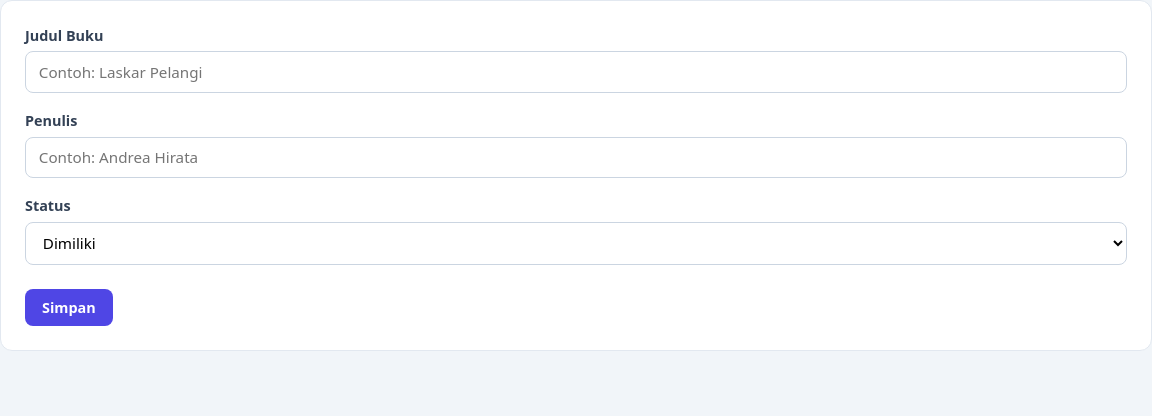
it: BookForm › menghapus pesan error ketika pengguna mulai mengetik
This screenshot has width=1152, height=416.
Click the button "Simpan": (69, 308) [25,289,113,326]
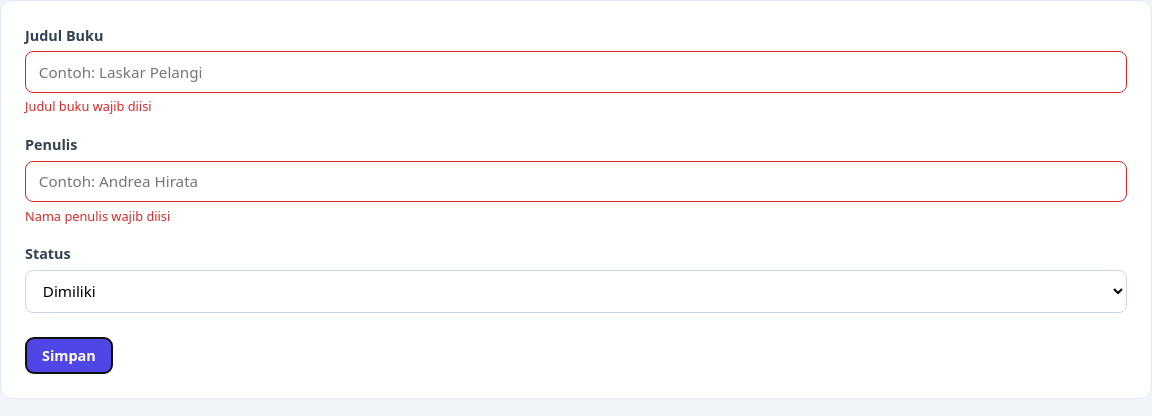
Expected: the text "Judul buku wajib diisi" is shown, [25,97,152,115]
In the field labelled "Judul Buku": (576, 72) [25,51,1127,93], type "A"
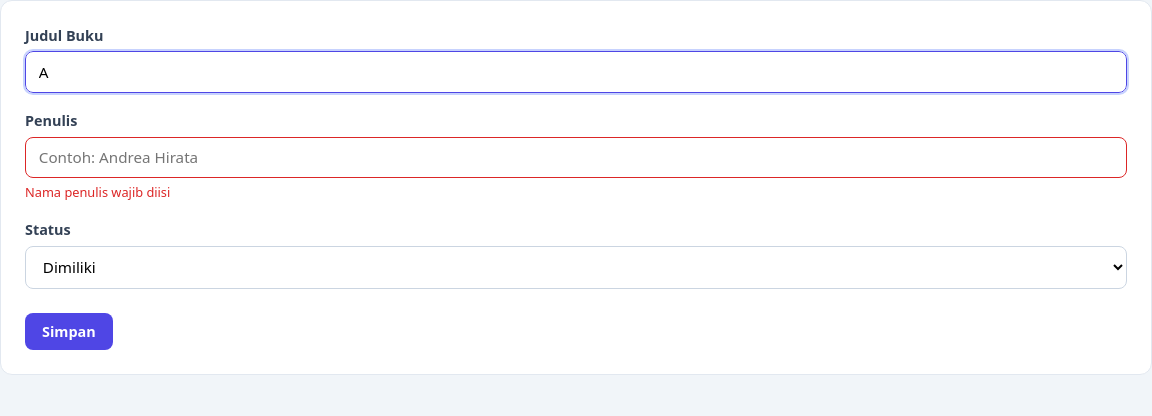
Expected: the text "Judul buku wajib diisi" is gone
